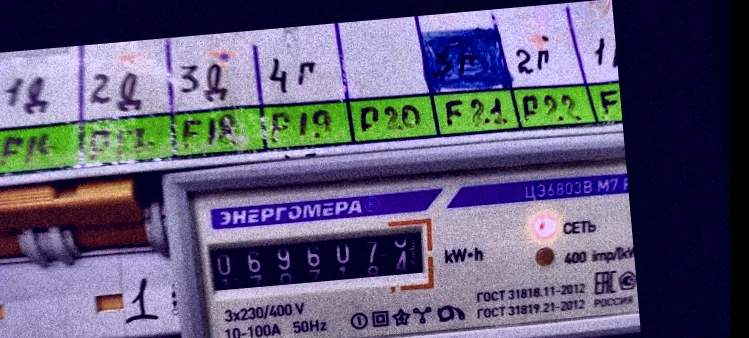0: (214, 250, 233, 275), (333, 238, 350, 264)
4: (391, 247, 409, 273)
6: (303, 241, 323, 266), (244, 247, 263, 273)
7: (363, 237, 381, 264)
9: (274, 245, 292, 270)
screen: (193, 210, 441, 305)
